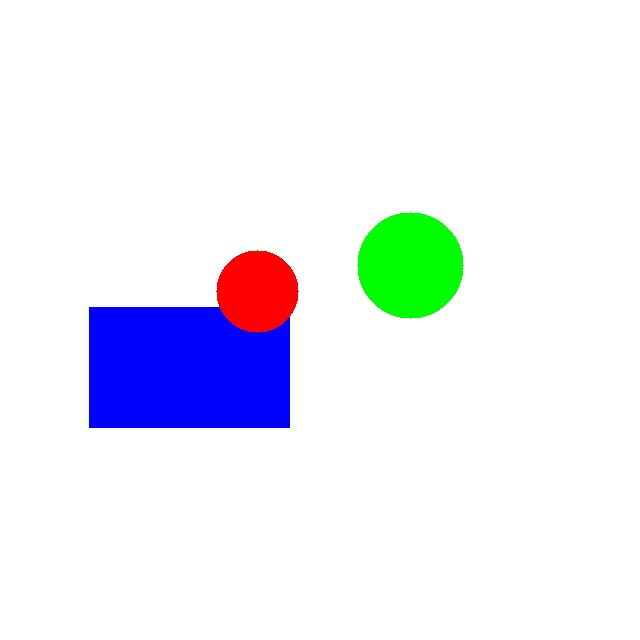cartao: (89, 307, 289, 427)
rosca_externa: (357, 212, 463, 318)
rosca_interna: (216, 250, 298, 332)
